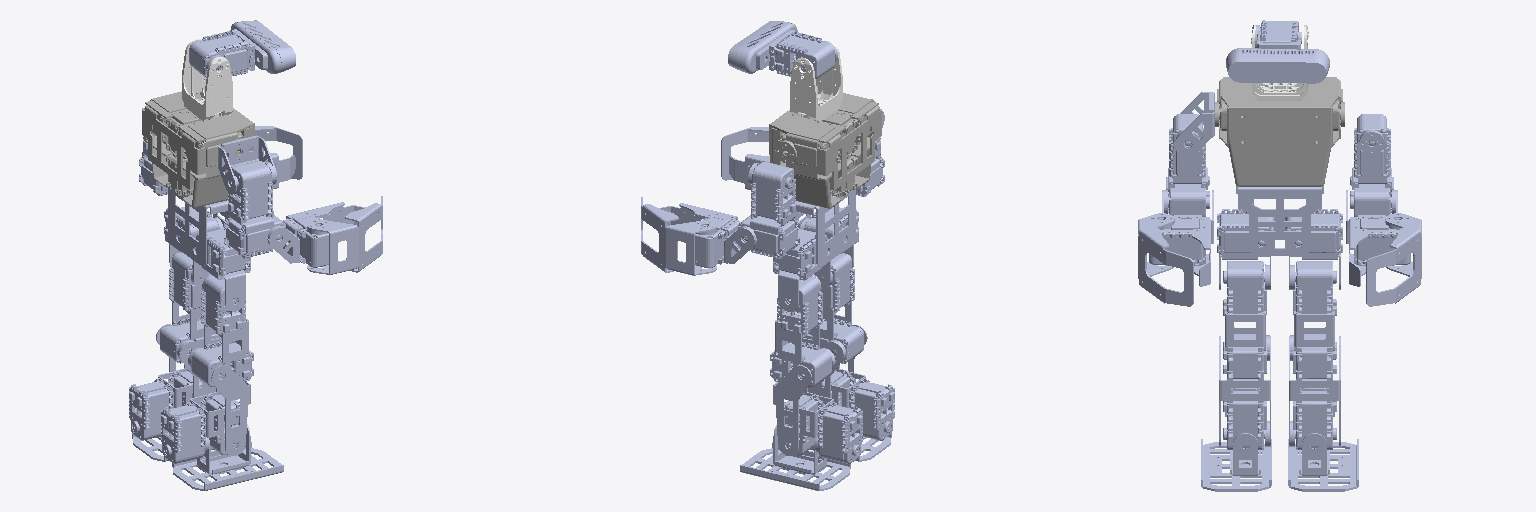
--- Render facts (derived) ---
Views: 3 orthographic renders of the robot side by side, from view 1: azimuth 30°, elevation 25°; view 2: azimuth 150°, elevation 25°; view 3: azimuth 270°, elevation 25°.
Model bioloidgp_social_robot with 24 links and 23 joints (21 continuous, 2 fixed), rooted at dummy, posed all joints at 0.
Visible links, largest first — view 1: base_link, right_leg_link_2, right_arm_link_2, camera, right_leg_link_4, left_leg_link_2, right_arm_link_3, right_leg_link_5, right_gripper, left_leg_link_4, head_link, right_leg_link_1 (+8 smaller); view 2: base_link, left_arm_link_2, left_leg_link_2, camera, left_leg_link_4, right_leg_link_2, left_arm_link_3, left_gripper, left_leg_link_5, right_leg_link_4, head_link, left_leg_link_1 (+7 smaller); view 3: base_link, right_leg_link_2, left_leg_link_2, camera, torso_link, left_arm_link_2, right_leg_link_5, left_leg_link_5, right_arm_link_2, right_gripper, left_gripper, right_arm_link_3 (+9 smaller).
Link boxes in pixels (<box>): base_link: <box>142,91,254,207</box>; right_leg_link_2: <box>189,274,253,386</box>; right_arm_link_2: <box>224,161,285,258</box>; camera: <box>189,20,295,77</box>; right_leg_link_4: <box>161,393,239,463</box>; left_leg_link_2: <box>160,252,219,363</box>; right_arm_link_3: <box>269,202,365,267</box>; right_leg_link_5: <box>172,424,283,490</box>; right_gripper: <box>307,196,382,274</box>; left_leg_link_4: <box>129,370,201,440</box>; head_link: <box>182,39,232,121</box>; right_leg_link_1: <box>196,228,250,311</box>; base_link: <box>769,93,881,208</box>; left_arm_link_2: <box>738,162,799,258</box>; left_leg_link_2: <box>770,274,834,386</box>; camera: <box>728,21,837,78</box>; left_leg_link_4: <box>777,393,862,463</box>; right_leg_link_2: <box>803,253,863,363</box>; left_arm_link_3: <box>659,203,754,267</box>; left_gripper: <box>641,197,716,275</box>; left_leg_link_5: <box>740,425,850,490</box>; right_leg_link_4: <box>822,370,894,440</box>; head_link: <box>790,41,842,122</box>; left_leg_link_1: <box>773,229,827,311</box>; base_link: <box>1215,77,1344,186</box>; right_leg_link_2: <box>1223,261,1269,381</box>; left_leg_link_2: <box>1290,261,1336,381</box>; camera: <box>1226,20,1329,83</box>; torso_link: <box>1236,186,1323,255</box>; left_arm_link_2: <box>1350,114,1395,216</box>; right_leg_link_5: <box>1201,433,1271,491</box>; left_leg_link_5: <box>1288,433,1358,491</box>; right_arm_link_2: <box>1164,114,1209,216</box>; right_gripper: <box>1138,213,1193,306</box>; left_gripper: <box>1366,213,1421,306</box>; right_arm_link_3: <box>1149,190,1213,286</box>.
Bounding box of the posed robot: 0.2083 × 0.245 × 0.4258 m (x, y, z).
21 mesh visuals loaded from 22 distinct referenced files (21 binary STL); not drawn: 1 (reference not matched to a file when rendering).

robot.urdf — bioloidgp_social_robot:
<?xml version="1.0" encoding="utf-8"?>
<!-- This URDF was automatically created by SolidWorks to URDF Exporter! Originally created by Stephen Brawner ([email redacted]) 
     Commit Version: 1.6.0-1-g15f4949  Build Version: 1.6.7594.29634
     For more information, please see http://wiki.ros.org/sw_urdf_exporter -->
<robot
  name="bioloidgp_social_robot">

  <link name="dummy">
  </link>

  <link
    name="base_link">
    <inertial>
      <origin
        xyz="-0.020929 0.0003067 -0.010821"
        rpy="0 0 0" />
      <mass
        value="0.38847" />
      <inertia
        ixx="0.00037179"
        ixy="-3.8113E-07"
        ixz="-5.6596E-06"
        iyy="0.00025726"
        iyz="-3.3879E-07"
        izz="0.00023648" />
    </inertial>
    <visual>
      <origin
        xyz="0 0 0"
        rpy="0 0 0" />
      <geometry>
        <mesh
          filename="package://bioloidgp_social_robot/meshes/base_link.STL" />
      </geometry>
      <material
        name="">
        <color
          rgba="0.75294 0.75294 0.75294 1" />
      </material>
    </visual>
    <collision>
      <origin
        xyz="0 0 0"
        rpy="0 0 0" />
      <geometry>
        <mesh
          filename="package://bioloidgp_social_robot/meshes/base_link.STL" />
      </geometry>
    </collision>
  </link>

  <joint name="dummy_joint" type="fixed">
     <parent link="dummy"/>
     <child link="base_link"/>
  </joint>

  <joint 
    name="imu_to_base_joint" 
    type="fixed">
    <origin 
      xyz="0.00824999999999999 0 -0.035"
      rpy="0 0 0" />
    <parent link="base_link"/>
    <child link="imu_link"/>
  </joint>

  <link 
    name="imu_link">
    <visual>
      <geometry>
        <box size="0.016 0.026 0.005"/>
      </geometry>
      <material name="green">
        <color rgba="0.0 1.0 0.0 1.0"/>
      </material>
    </visual>
  </link>

  <link
    name="right_arm_link_1">
    <inertial>
      <origin
        xyz="-6.0704E-08 -0.0092321 0.0051786"
        rpy="0 0 0" />
      <mass
        value="0.0040203" />
      <inertia
        ixx="8.5346E-07"
        ixy="1.7048E-12"
        ixz="-1.0516E-12"
        iyy="1.7713E-06"
        iyz="2.5119E-07"
        izz="1.691E-06" />
    </inertial>
    <visual>
      <origin
        xyz="0 0 0"
        rpy="0 0 0" />
      <geometry>
        <mesh
          filename="package://bioloidgp_social_robot/meshes/right_arm_link_1.STL" />
      </geometry>
      <material
        name="">
        <color
          rgba="0.79216 0.81961 0.93333 1" />
      </material>
    </visual>
    <collision>
      <origin
        xyz="0 0 0"
        rpy="0 0 0" />
      <geometry>
        <mesh
          filename="package://bioloidgp_social_robot/meshes/right_arm_link_1.STL" />
      </geometry>
    </collision>
  </link>
  <link
    name="right_arm_link_2">
    <inertial>
      <origin
        xyz="-0.00050189 -0.035219 0.0031256"
        rpy="0 0 0" />
      <mass
        value="0.088364" />
      <inertia
        ixx="2.19E-05"
        ixy="-8.8092E-09"
        ixz="-1.8948E-07"
        iyy="1.8529E-05"
        iyz="2.0129E-07"
        izz="1.67E-05" />
    </inertial>
    <visual>
      <origin
        xyz="0 0 0"
        rpy="0 0 0" />
      <geometry>
        <mesh
          filename="package://bioloidgp_social_robot/meshes/right_arm_link_2.STL" />
      </geometry>
      <material
        name="">
        <color
          rgba="0.79216 0.81961 0.93333 1" />
      </material>
    </visual>
    <collision>
      <origin
        xyz="0 0 0"
        rpy="0 0 0" />
      <geometry>
        <mesh
          filename="package://bioloidgp_social_robot/meshes/right_arm_link_2.STL" />
      </geometry>
    </collision>
  </link>
  <link
    name="right_arm_link_3">
    <inertial>
      <origin
        xyz="0.0062081 0.042396 -0.016804"
        rpy="0 0 0" />
      <mass
        value="0.053418" />
      <inertia
        ixx="1.0779E-05"
        ixy="2.3649E-08"
        ixz="1.9098E-07"
        iyy="1.4518E-05"
        iyz="2.4969E-07"
        izz="1.4395E-05" />
    </inertial>
    <visual>
      <origin
        xyz="0 0 0"
        rpy="0 3.1416 0" />
      <geometry>
        <mesh
          filename="package://bioloidgp_social_robot/meshes/right_arm_link_3.STL" />
      </geometry>
      <material
        name="">
        <color
          rgba="0.79216 0.81961 0.93333 1" />
      </material>
    </visual>
    <collision>
      <origin
        xyz="0 0 0"
        rpy="0 3.1416 0" />
      <geometry>
        <mesh
          filename="package://bioloidgp_social_robot/meshes/right_arm_link_3.STL" />
      </geometry>
    </collision>
  </link>
  <link
    name="right_gripper">
    <inertial>
      <origin
        xyz="0.018 -0.0062404 0.036135"
        rpy="0 0 0" />
      <mass
        value="0.0088243" />
      <inertia
        ixx="7.4613E-06"
        ixy="-2.1839E-11"
        ixz="-7.8633E-12"
        iyy="9.3608E-06"
        iyz="-1.8805E-06"
        izz="4.6829E-06" />
    </inertial>
    <visual>
      <origin
        xyz="0 0 0"
        rpy="3.1416 0 0" />
      <geometry>
        <mesh
          filename="package://bioloidgp_social_robot/meshes/right_gripper.STL" />
      </geometry>
      <material
        name="">
        <color
          rgba="0.79216 0.81961 0.93333 1" />
      </material>
    </visual>
    <collision>
      <origin
        xyz="0 0 0"
        rpy="3.1416 0 0" />
      <geometry>
        <mesh
          filename="package://bioloidgp_social_robot/meshes/right_gripper.STL" />
      </geometry>
    </collision>
  </link>



  <link
    name="left_arm_link_1">
    <inertial>
      <origin
        xyz="-6.0704E-08 -0.0092321 0.0051786"
        rpy="0 0 0" />
      <mass
        value="0.0040203" />
      <inertia
        ixx="8.5346E-07"
        ixy="1.7048E-12"
        ixz="-1.0516E-12"
        iyy="1.7713E-06"
        iyz="2.5119E-07"
        izz="1.691E-06" />
    </inertial>
    <visual>
      <origin
        xyz="0 0 0"
        rpy="0 0 0" />
      <geometry>
        <mesh
          filename="package://bioloidgp_social_robot/meshes/left_arm_link_1.STL" />
      </geometry>
      <material
        name="">
        <color
          rgba="0.79216 0.81961 0.93333 1" />
      </material>
    </visual>
    <collision>
      <origin
        xyz="0 0 0"
        rpy="0 0 0" />
      <geometry>
        <mesh
          filename="package://bioloidgp_social_robot/meshes/left_arm_link_1.STL" />
      </geometry>
    </collision>
  </link>
  <link
    name="left_arm_link_2">
    <inertial>
      <origin
        xyz="-0.035249 0.0031256 0.00047237"
        rpy="0 0 0" />
      <mass
        value="0.088364" />
      <inertia
        ixx="1.8529E-05"
        ixy="1.8067E-07"
        ixz="-8.8092E-09"
        iyy="1.67E-05"
        iyz="1.9248E-07"
        izz="2.19E-05" />
    </inertial>
    <visual>
      <origin
        xyz="0 0 0"
        rpy="0 0 0" />
      <geometry>
        <mesh
          filename="package://bioloidgp_social_robot/meshes/left_arm_link_2.STL" />
      </geometry>
      <material
        name="">
        <color
          rgba="0.79216 0.81961 0.93333 1" />
      </material>
    </visual>
    <collision>
      <origin
        xyz="0 0 0"
        rpy="0 0 0" />
      <geometry>
        <mesh
          filename="package://bioloidgp_social_robot/meshes/left_arm_link_2.STL" />
      </geometry>
    </collision>
  </link>
  <link
    name="left_arm_link_3">
    <inertial>
      <origin
        xyz="-0.0062081 0.042347 -0.016804"
        rpy="0 0 0" />
      <mass
        value="0.053418" />
      <inertia
        ixx="1.0779E-05"
        ixy="-3.02E-09"
        ixz="-1.9098E-07"
        iyy="1.4518E-05"
        iyz="2.527E-07"
        izz="1.4395E-05" />
    </inertial>
    <visual>
      <origin
        xyz="0 0 0"
        rpy="0 0 0" />
      <geometry>
        <mesh
          filename="package://bioloidgp_social_robot/meshes/left_arm_link_3.STL" />
      </geometry>
      <material
        name="">
        <color
          rgba="0.79216 0.81961 0.93333 1" />
      </material>
    </visual>
    <collision>
      <origin
        xyz="0 0 0"
        rpy="0 0 0" />
      <geometry>
        <mesh
          filename="package://bioloidgp_social_robot/meshes/left_arm_link_3.STL" />
      </geometry>
    </collision>
  </link>
  <link
    name="left_gripper">
    <inertial>
      <origin
        xyz="-0.018 -0.0062404 0.036135"
        rpy="0 0 0" />
      <mass
        value="0.0088243" />
      <inertia
        ixx="7.4613E-06"
        ixy="-2.1839E-11"
        ixz="-7.8633E-12"
        iyy="9.3608E-06"
        iyz="-1.8805E-06"
        izz="4.6829E-06" />
    </inertial>
    <visual>
      <origin
        xyz="0 0 0"
        rpy="3.1416 0 3.1416" />
      <geometry>
        <mesh
          filename="package://bioloidgp_social_robot/meshes/left_gripper.STL" />
      </geometry>
      <material
        name="">
        <color
          rgba="0.79216 0.81961 0.93333 1" />
      </material>
    </visual>
    <collision>
      <origin
        xyz="0 0 0"
        rpy="3.1416 0 3.1416" />
      <geometry>
        <mesh
          filename="package://bioloidgp_social_robot/meshes/left_gripper.STL" />
      </geometry>
    </collision>
  </link>


  <link
    name="torso_link">
    <inertial>
      <origin
        xyz="2.63162406857406E-08 -0.0210909555658785 -0.00131922984856178"
        rpy="0 0 0" />
      <mass
        value="0.0150306588580906" />
      <inertia
        ixx="1.22995746902599E-05"
        ixy="-5.36004118527771E-12"
        ixz="4.57561805749191E-15"
        iyy="1.26743899445149E-05"
        iyz="-4.84169136516332E-07"
        izz="1.42781332295549E-05" />
    </inertial>
    <visual>
      <origin
        xyz="0 0 0"
        rpy="0 0 0" />
      <geometry>
        <mesh
          filename="package://bioloidgp_social_robot/meshes/torso_link.STL" />
      </geometry>
      <material
        name="">
        <color
          rgba="0.792156862745098 0.819607843137255 0.933333333333333 1" />
      </material>
    </visual>
    <collision>
      <origin
        xyz="0 0 0"
        rpy="0 0 0" />
      <geometry>
        <mesh
          filename="package://bioloidgp_social_robot/meshes/torso_link.STL" />
      </geometry>
    </collision>
  </link>




  <link
    name="right_leg_link_1">
    <inertial>
      <origin
        xyz="-0.0129819085295125 -0.00228500435172165 0.000908026149630328"
        rpy="0 0 0" />
      <mass
        value="0.047405027669223" />
      <inertia
        ixx="7.27334637836052E-06"
        ixy="5.51374282894484E-08"
        ixz="1.90980207222024E-07"
        iyy="1.32375639686867E-05"
        iyz="-1.50339397226202E-09"
        izz="1.18495804679192E-05" />
    </inertial>
    <visual>
      <origin
        xyz="0 0 0"
        rpy="0 0 0" />
      <geometry>
        <mesh
          filename="package://bioloidgp_social_robot/meshes/right_leg_link_1.STL" />
      </geometry>
      <material
        name="">
        <color
          rgba="0.792156862745098 0.819607843137255 0.933333333333333 1" />
      </material>
    </visual>
    <collision>
      <origin
        xyz="0 0 0"
        rpy="0 0 0" />
      <geometry>
        <mesh
          filename="package://bioloidgp_social_robot/meshes/right_leg_link_1.STL" />
      </geometry>
    </collision>
  </link>

  <link
    name="right_leg_link_2">
    <inertial>
      <origin
        xyz="-0.0130339683821673 -0.0436380731762437 -0.000505151739103829"
        rpy="0 0 0" />
      <mass
        value="0.0891171757796176" />
      <inertia
        ixx="2.07420488419902E-05"
        ixy="1.89476813249674E-07"
        ixz="-1.92483601194151E-07"
        iyy="1.89661820142661E-05"
        iyz="-7.78205227092184E-08"
        izz="1.90005912983823E-05" />
    </inertial>
    <visual>
      <origin
        xyz="0 0 0"
        rpy="0 0 0" />
      <geometry>
        <mesh
          filename="package://bioloidgp_social_robot/meshes/right_leg_link_2.STL" />
      </geometry>
      <material
        name="">
        <color
          rgba="0.792156862745098 0.819607843137255 0.933333333333333 1" />
      </material>
    </visual>
    <collision>
      <origin
        xyz="0 0 0"
        rpy="0 0 0" />
      <geometry>
        <mesh
          filename="package://bioloidgp_social_robot/meshes/right_leg_link_2.STL" />
      </geometry>
    </collision>
  </link>

  <link
    name="right_leg_link_3">
    <inertial>
      <origin
        xyz="0.0139999999999994 0.0335563832066388 0.0151934897642466"
        rpy="0 0 0" />
      <mass
        value="0.00701486534628873" />
      <inertia
        ixx="5.15587753735929E-06"
        ixy="-9.64472061952054E-20"
        ixz="-3.356938423376E-20"
        iyy="3.83307916350284E-06"
        iyz="-4.23987865116651E-07"
        izz="7.34905050588704E-06" />
    </inertial>
    <visual>
      <origin
        xyz="0 0 0"
        rpy="0 0 0" />
      <geometry>
        <mesh
          filename="package://bioloidgp_social_robot/meshes/right_leg_link_3.STL" />
      </geometry>
      <material
        name="">
        <color
          rgba="0.792156862745098 0.819607843137255 0.933333333333333 1" />
      </material>
    </visual>
    <collision>
      <origin
        xyz="0 0 0"
        rpy="0 0 0" />
      <geometry>
        <mesh
          filename="package://bioloidgp_social_robot/meshes/right_leg_link_3.STL" />
      </geometry>
    </collision>
  </link>

  <link
    name="right_leg_link_4">
    <inertial>
      <origin
        xyz="-0.0133946384168482 0.0211528090768007 0.0129875072823342"
        rpy="0 0 0" />
      <mass
        value="0.0873984262026251" />
      <inertia
        ixx="2.17378173151335E-05"
        ixy="7.47586135809127E-20"
        ixz="-2.01292818032275E-07"
        iyy="2.20790808773904E-05"
        iyz="1.82242487051738E-07"
        izz="1.31204837284324E-05" />
    </inertial>
    <visual>
      <origin
        xyz="0 0 0"
        rpy="0 0 0" />
      <geometry>
        <mesh
          filename="package://bioloidgp_social_robot/meshes/right_leg_link_4.STL" />
      </geometry>
      <material
        name="">
        <color
          rgba="0.792156862745098 0.819607843137255 0.933333333333333 1" />
      </material>
    </visual>
    <collision>
      <origin
        xyz="0 0 0"
        rpy="0 0 0" />
      <geometry>
        <mesh
          filename="package://bioloidgp_social_robot/meshes/right_leg_link_4.STL" />
      </geometry>
    </collision>
  </link>

  <link
    name="right_leg_link_5">
    <inertial>
      <origin
        xyz="-0.00578156165290394 -0.0271016298640757 0.0001999999924545"
        rpy="0 0 0" />
      <mass
        value="0.0145032303847989" />
      <inertia
        ixx="9.53948774258595E-06"
        ixy="-6.23592491414207E-15"
        ixz="-6.34588901452735E-16"
        iyy="1.36797822725632E-05"
        iyz="6.68055590641044E-17"
        izz="5.46558889534128E-06" />
    </inertial>
    <visual>
      <origin
        xyz="0 0 0"
        rpy="0 3.1416 0" />
      <geometry>
        <mesh
          filename="package://bioloidgp_social_robot/meshes/right_leg_link_5.STL" />
      </geometry>
      <material
        name="">
        <color
          rgba="0.792156862745098 0.819607843137255 0.933333333333333 1" />
      </material>
    </visual>
    <collision>
      <origin
        xyz="0 0 0"
        rpy="0 3.1416 0" />
      <geometry>
        <mesh
          filename="package://bioloidgp_social_robot/meshes/right_leg_link_5.STL" />
      </geometry>
    </collision>
  </link>

  <link
    name="left_leg_link_1">
    <inertial>
      <origin
        xyz="-0.0129819085295124 -0.00234002672831647 -0.00090802614963037"
        rpy="0 0 0" />
      <mass
        value="0.0474050276692231" />
      <inertia
        ixx="7.27334637836053E-06"
        ixy="3.4512206668867E-08"
        ixz="-1.90980207222015E-07"
        iyy="1.32375639686867E-05"
        iyz="-1.50339397225981E-09"
        izz="1.18495804679193E-05" />
    </inertial>
    <visual>
      <origin
        xyz="0 0 0"
        rpy="0 3.1416 0" />
      <geometry>
        <mesh
          filename="package://bioloidgp_social_robot/meshes/left_leg_link_1.STL" />
      </geometry>
      <material
        name="">
        <color
          rgba="0.792156862745098 0.819607843137255 0.933333333333333 1" />
      </material>
    </visual>
    <collision>
      <origin
        xyz="0 0 0"
        rpy="0 3.1416 0" />
      <geometry>
        <mesh
          filename="package://bioloidgp_social_robot/meshes/left_leg_link_1.STL" />
      </geometry>
    </collision>
  </link>

  <link
    name="left_leg_link_2">
    <inertial>
      <origin
        xyz="0.0130339683821149 -0.043667341802208 -0.000534420365074506"
        rpy="0 0 0" />
      <mass
        value="0.0891171757796176" />
      <inertia
        ixx="2.07420488419902E-05"
        ixy="-1.92483601194349E-07"
        ixz="1.89476813249886E-07"
        iyy="1.89661820142661E-05"
        iyz="-7.78205227092225E-08"
        izz="1.90005912983823E-05" />
    </inertial>
    <visual>
      <origin
        xyz="0 0 0"
        rpy="0 3.1416 0" />
      <geometry>
        <mesh
          filename="package://bioloidgp_social_robot/meshes/left_leg_link_2.STL" />
      </geometry>
      <material
        name="">
        <color
          rgba="0.792156862745098 0.819607843137255 0.933333333333333 1" />
      </material>
    </visual>
    <collision>
      <origin
        xyz="0 0 0"
        rpy="0 3.1416 0" />
      <geometry>
        <mesh
          filename="package://bioloidgp_social_robot/meshes/left_leg_link_2.STL" />
      </geometry>
    </collision>
  </link>

  <link
    name="left_leg_link_3">
    <inertial>
      <origin
        xyz="-0.0140000000000141 0.033556383206642 0.0151934897642171"
        rpy="0 0 0" />
      <mass
        value="0.00701486534628874" />
      <inertia
        ixx="5.15587753735928E-06"
        ixy="3.10577851141471E-19"
        ixz="-2.10972444416208E-18"
        iyy="3.83307916350267E-06"
        iyz="-4.23987865115931E-07"
        izz="7.3490505058872E-06" />
    </inertial>
    <visual>
      <origin
        xyz="0 0 0"
        rpy="0 3.1416 0" />
      <geometry>
        <mesh
          filename="package://bioloidgp_social_robot/meshes/left_leg_link_3.STL" />
      </geometry>
      <material
        name="">
        <color
          rgba="0.792156862745098 0.819607843137255 0.933333333333333 1" />
      </material>
    </visual>
    <collision>
      <origin
        xyz="0 0 0"
        rpy="0 3.1416 0" />
      <geometry>
        <mesh
          filename="package://bioloidgp_social_robot/meshes/left_leg_link_3.STL" />
      </geometry>
    </collision>
  </link>


  <link
    name="left_leg_link_4">
    <inertial>
      <origin
        xyz="0.013424 0.021123 0.012988"
        rpy="0 0 0" />
      <mass
        value="0.087398" />
      <inertia
        ixx="2.1738E-05"
        ixy="-2.5019E-19"
        ixz="1.8067E-07"
        iyy="2.2079E-05"
        iyz="2.0287E-07"
        izz="1.312E-05" />
    </inertial>
    <visual>
      <origin
        xyz="0 0 0"
        rpy="0 0 3.1416" />
      <geometry>
        <mesh
          filename="package://bioloidgp_social_robot/meshes/left_leg_link_4.STL" />
      </geometry>
      <material
        name="">
        <color
          rgba="0.79216 0.81961 0.93333 1" />
      </material>
    </visual>
    <collision>
      <origin
        xyz="0 0 0"
        rpy="0 0 3.1416" />
      <geometry>
        <mesh
          filename="package://bioloidgp_social_robot/meshes/left_leg_link_4.STL" />
      </geometry>
    </collision>
  </link>


  <link
    name="left_leg_link_5">
    <inertial>
      <origin
        xyz="0.0095816 -0.027202 0.0002"
        rpy="0 0 0" />
      <mass
        value="0.014503" />
      <inertia
        ixx="9.5395E-06"
        ixy="-6.2359E-15"
        ixz="-6.3559E-16"
        iyy="1.368E-05"
        iyz="6.696E-17"
        izz="5.4656E-06" />
    </inertial>
    <visual>
      <origin
        xyz="0 0 0"
        rpy="0 3.1416 0" />
      <geometry>
        <mesh
          filename="package://bioloidgp_social_robot/meshes/left_leg_link_5.STL" />
      </geometry>
      <material
        name="">
        <color
          rgba="0.79216 0.81961 0.93333 1" />
      </material>
    </visual>
    <collision>
      <origin
        xyz="0 0 0"
        rpy="0 3.1416 0" />
      <geometry>
        <mesh
          filename="package://bioloidgp_social_robot/meshes/left_leg_link_5.STL" />
      </geometry>
    </collision>
  </link>

  <link
    name="head_link">
    <inertial>
      <origin
        xyz="0 0 0"
        rpy="0 0 0" />
      <mass
        value="0" />
      <inertia
        ixx="0"
        ixy="0"
        ixz="0"
        iyy="0"
        iyz="0"
        izz="0" />
    </inertial>
    <visual>
      <origin
        xyz="0 0 0"
        rpy="0 0 0" />
      <geometry>
        <mesh
          filename="package://bioloidgp_social_robot/meshes/head_link.STL" />
      </geometry>
      <material
        name="">
        <color
          rgba="1 1 1 1" />
      </material>
    </visual>
    <collision>
      <origin
        xyz="0 0 0"
        rpy="0 0 0" />
      <geometry>
        <mesh
          filename="package://bioloidgp_social_robot/meshes/head_link.STL" />
      </geometry>
    </collision>
  </link>

  <link
    name="camera">
    <inertial>
      <origin
        xyz="-0.00033356 0.0036577 0.036647"
        rpy="0 0 0" />
      <mass
        value="0.096022" />
      <inertia
        ixx="1.43E-05"
        ixy="-4.3064E-09"
        ixz="4.3532E-07"
        iyy="4.1194E-05"
        iyz="9.0106E-09"
        izz="3.6198E-05" />
    </inertial>
    <visual>
      <origin
        xyz="0 0 0"
        rpy="0 0 3.1416" />
      <geometry>
        <mesh
          filename="package://bioloidgp_social_robot/meshes/camera.STL" />
      </geometry>
      <material
        name="">
        <color
          rgba="0.79216 0.81961 0.93333 1" />
      </material>
    </visual>
    <collision>
      <origin
        xyz="0 0 0"
        rpy="0 0 3.1416" />
      <geometry>
        <mesh
          filename="package://bioloidgp_social_robot/meshes/camera.STL" />
      </geometry>
    </collision>
  </link>




  <joint
    name="joint_1"
    type="continuous">
    <origin
      xyz="0.00875 -0.05649 0.00275"
      rpy="3.1416 0 3.1416" />
    <parent
      link="base_link" />
    <child
      link="right_arm_link_1" />
    <axis
      xyz="0 1 0" />
  </joint>
  <joint
    name="joint_2"
    type="continuous">
    <origin
      xyz="0.00875 0.05649 0.00275"
      rpy="3.1416 0 0" />
    <parent
      link="base_link" />
    <child
      link="left_arm_link_1" />
    <axis
      xyz="0 1 0" />
  </joint>
  <joint
    name="joint_3"
    type="continuous">
    <origin
      xyz="0 -0.02301 0.018"
      rpy="-1.5708 0 1.5708" />
    <parent
      link="right_arm_link_1" />
    <child
      link="right_arm_link_2" />
    <axis
      xyz="0 0 1" />
  </joint>
  <joint
    name="joint_4"
    type="continuous">
    <origin
      xyz="0 -0.0230095805758357 0.0179999999999604"
      rpy="1.5707963267949 1.5707963267949 0" />
    <parent
      link="left_arm_link_1" />
    <child
      link="left_arm_link_2" />
    <axis
      xyz="0 1 0" />
  </joint>
  <joint
    name="joint_5"
    type="continuous">
    <origin
      xyz="0 -0.0574 0.0182"
      rpy="1.5708 0 0" />
    <parent
      link="right_arm_link_2" />
    <child
      link="right_arm_link_3" />
    <axis
      xyz="1 0 0" />
  </joint>
  <joint
    name="joint_6"
    type="continuous">
    <origin
      xyz="-0.0573999999999997 0.0182000000000009 0"
      rpy="0 1.5707963267949 0" />
    <parent
      link="left_arm_link_2" />
    <child
      link="left_arm_link_3" />
    <axis
      xyz="1 0 0" />
  </joint>
  <joint
    name="joint_7"
    type="continuous">
    <origin
      xyz="-0.0225 0.0425 0"
      rpy="1.5707963267949 -1.5707963267949 0" />
    <parent
      link="right_arm_link_3" />
    <child
      link="right_gripper" />
    <axis
      xyz="1 0 0" />
  </joint>
  <joint
    name="joint_8"
    type="continuous">
    <origin
      xyz="-0.0225000000000029 0.0424999999999997 0"
      rpy="1.5707963267949 1.5707963267949 0" />
    <parent
      link="left_arm_link_3" />
    <child
      link="left_gripper" />
    <axis
      xyz="1 0 0" />
  </joint>
  <joint
    name="joint_9"
    type="continuous">
    <origin
      xyz="-0.016 -0.0535000000000006 0"
      rpy="0 0 0" />
    <parent
      link="torso_link" />
    <child
      link="right_leg_link_1" />
    <axis
      xyz="0 0 1" />
  </joint>
  <joint
    name="joint_10"
    type="continuous">
    <origin
      xyz="0.016 -0.0535000000000006 0"
      rpy="0 0 0" />
    <parent
      link="torso_link" />
    <child
      link="left_leg_link_1" />
    <axis
      xyz="0 0 1" />
  </joint>
  <joint
    name="joint_11"
    type="continuous">
    <origin
      xyz="0 -0.0417999999999987 0"
      rpy="0 0 0" />
    <parent
      link="right_leg_link_1" />
    <child
      link="right_leg_link_2" />
    <axis
      xyz="1 0 0" />
  </joint>
  <joint
    name="joint_12"
    type="continuous">
    <origin
      xyz="0 -0.0418000000000007 0"
      rpy="3.14159265358979 0 -3.14159265358979" />
    <parent
      link="left_leg_link_1" />
    <child
      link="left_leg_link_2" />
    <axis
      xyz="1 0 0" />
  </joint>
  <joint
    name="joint_13"
    type="continuous">
    <origin
      xyz="0 -0.0744000000000003 -0.0144999999999987"
      rpy="0 0 3.14159265358979" />
    <parent
      link="right_leg_link_2" />
    <child
      link="right_leg_link_3" />
    <axis
      xyz="1 0 0" />
  </joint>
  <joint
    name="joint_14"
    type="continuous">
    <origin
      xyz="0 -0.0744 0.0145000000000106"
      rpy="0 0 -3.14159265358979" />
    <parent
      link="left_leg_link_2" />
    <child
      link="left_leg_link_3" />
    <axis
      xyz="1 0 0" />
  </joint>
  <joint
    name="joint_15"
    type="continuous">
    <origin
      xyz="0 0.0749999999999997 0.0145000000000012"
      rpy="-1.57079632679491 0 -3.14159265358979" />
    <parent
      link="right_leg_link_3" />
    <child
      link="right_leg_link_4" />
    <axis
      xyz="1 0 0" />
  </joint>
  <joint
    name="joint_16"
    type="continuous">
    <origin
      xyz="0 0.0750000000000028 -0.0144999999999764"
      rpy="-1.57079632679471 0 3.14159265358979" />
    <parent
      link="left_leg_link_3" />
    <child
      link="left_leg_link_4" />
    <axis
      xyz="1 0 0" />
  </joint>
  <joint
    name="joint_17"
    type="continuous">
    <origin
      xyz="-0.0138000000000002 0 -9.99999999997669E-05"
      rpy="1.57079632679491 0 3.1416" />
    <parent
      link="right_leg_link_4" />
    <child
      link="right_leg_link_5" />
    <axis
      xyz="0 0 1" />
  </joint>
  <joint
    name="joint_18"
    type="continuous">
    <origin
      xyz="-0.01 0 0"
      rpy="1.57079632679471 0 0" />
    <parent
      link="left_leg_link_4" />
    <child
      link="left_leg_link_5" />
    <axis
      xyz="0 0 1" />
  </joint>
  <joint
    name="joint_19"
    type="continuous">
    <origin
      xyz="0.00825 0 -0.05725"
      rpy="1.5708 0 1.5708" />
    <parent
      link="base_link" />
    <child
      link="torso_link" />
    <axis
      xyz="0 1 0" />
  </joint>
  <joint
    name="joint_20"
    type="continuous">
    <origin
      xyz="0.00825000000000002 0 0.0220498969223593"
      rpy="3.14159265358979 0 -1.60287187004926" />
    <parent
      link="base_link" />
    <child
      link="head_link" />
    <axis
      xyz="0 0 1" />
  </joint>
  <joint
    name="joint_21"
    type="continuous">
    <origin
      xyz="0 0 -0.05"
      rpy="-1.5707963267949 3.14159265358979 3.14159265358979" />
    <parent
      link="head_link" />
    <child
      link="camera" />
    <axis
      xyz="1 0 0" />
  </joint>
</robot>
